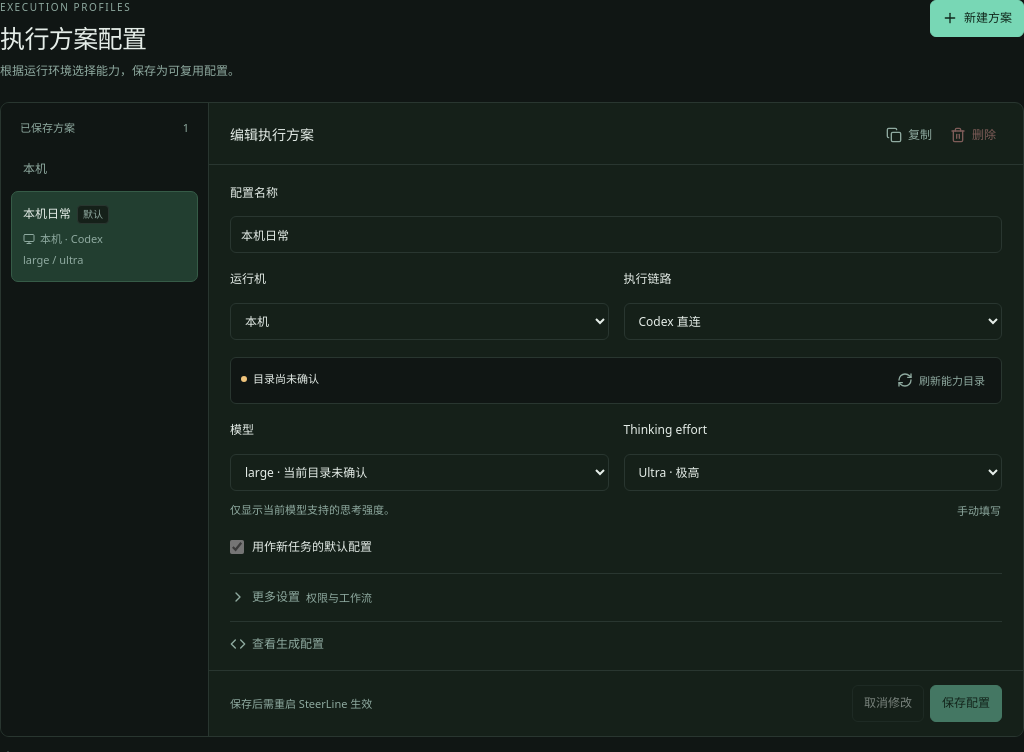
it: preserves the draft on a conditional save conflict
The width and height of the screenshot is (1024, 752).
Replace the text in the field labelled "配置名称" with "保留草稿". click: (616, 235)
box: 230,216 -> 1002,253
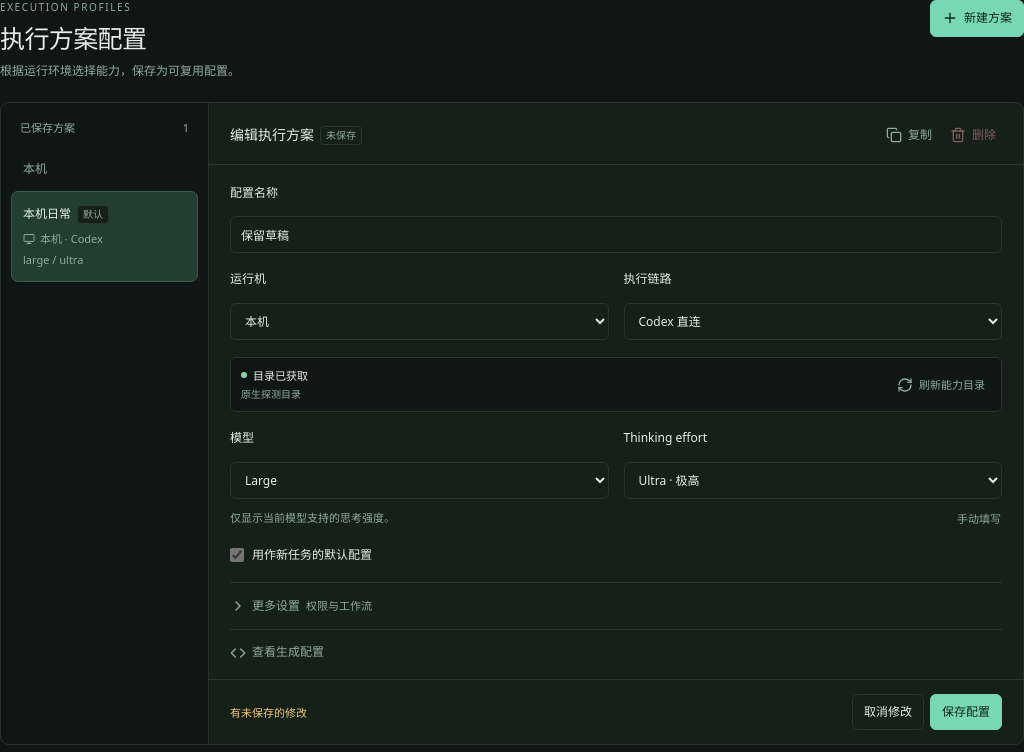
Click the button "保存配置". click: (966, 712)
box: 930,694 -> 1002,730
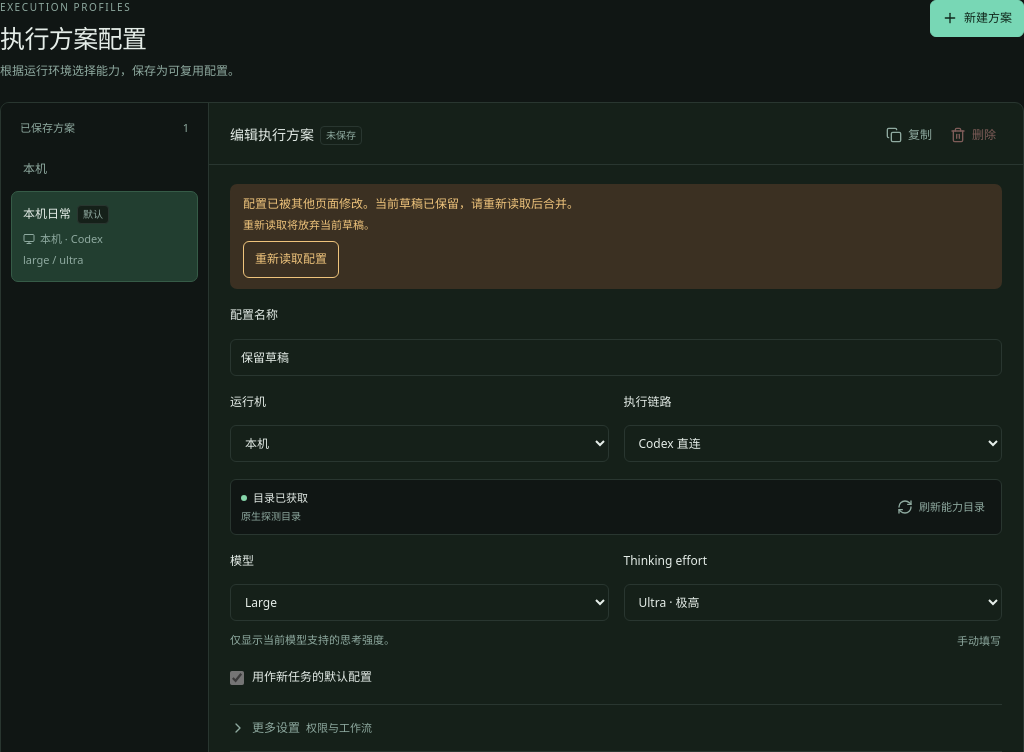
Now the text "配置已被其他页面修改。当前草稿已保留，请重新读取后合并。 重新读取将放弃当前草稿。 重新读取配置" is shown, box 243,195 -> 579,278
